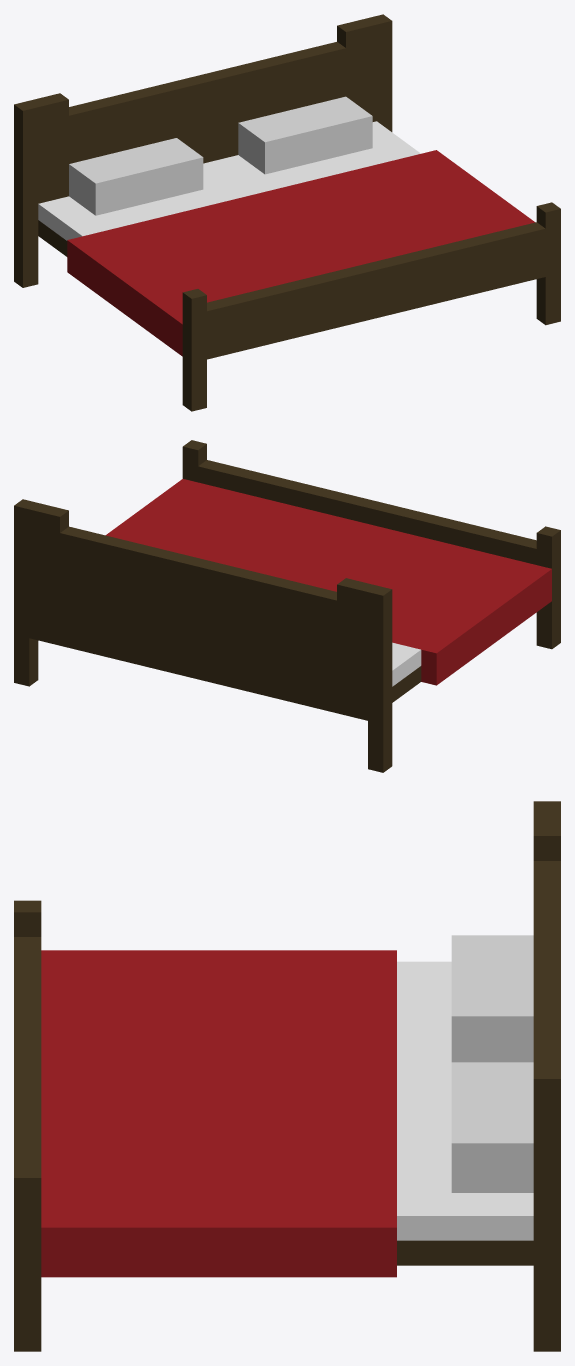
Rendered from medieval_bedroom_bed.obj.
The picture shows the model from 3 angles, top to bottom: view 1: azimuth 30°, elevation 25°; view 2: azimuth 150°, elevation 25°; view 3: azimuth 270°, elevation 25°; orthographic projection. The views are drawn at different scales.
Bounding box in the file's own units: 2.4 × 1.1 × 2.
1 material, 1 textured.
